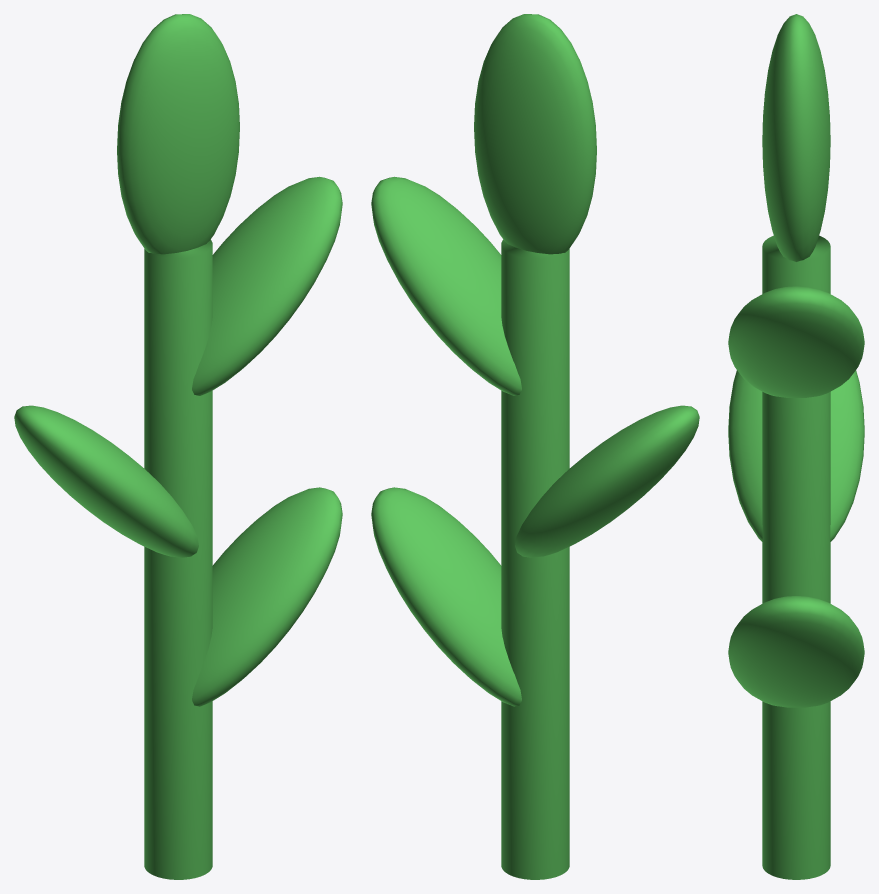
The model's file is Plant.fbx.
3 views of the same model, side by side, from view 1: azimuth 30°, elevation 25°; view 2: azimuth 150°, elevation 25°; view 3: azimuth 270°, elevation 25° (orthographic).
Visible parts, largest first — view 1: Cylinder.001, Sphere.003, Sphere.002, Sphere.001, Sphere; view 2: Cylinder.001, Sphere.003, Sphere.002, Sphere.001, Sphere; view 3: Cylinder.001, Sphere.003, Sphere.002, Sphere.001, Sphere.
Part boxes in pixels (x1=…): Cylinder.001: x1=144, y1=239, x2=212, y2=879; Sphere.003: x1=117, y1=14, x2=239, y2=254; Sphere.002: x1=192, y1=487, x2=342, y2=706; Sphere.001: x1=192, y1=176, x2=342, y2=395; Sphere: x1=14, y1=405, x2=198, y2=557; Cylinder.001: x1=501, y1=239, x2=569, y2=879; Sphere.003: x1=474, y1=14, x2=596, y2=254; Sphere.002: x1=371, y1=487, x2=521, y2=706; Sphere.001: x1=371, y1=176, x2=521, y2=395; Sphere: x1=515, y1=405, x2=699, y2=557; Cylinder.001: x1=762, y1=235, x2=830, y2=879; Sphere.003: x1=762, y1=14, x2=830, y2=261; Sphere.002: x1=728, y1=596, x2=864, y2=707; Sphere.001: x1=728, y1=286, x2=864, y2=397; Sphere: x1=728, y1=370, x2=864, y2=541.
Bounding box in the file's own units: 133 × 342 × 50.
